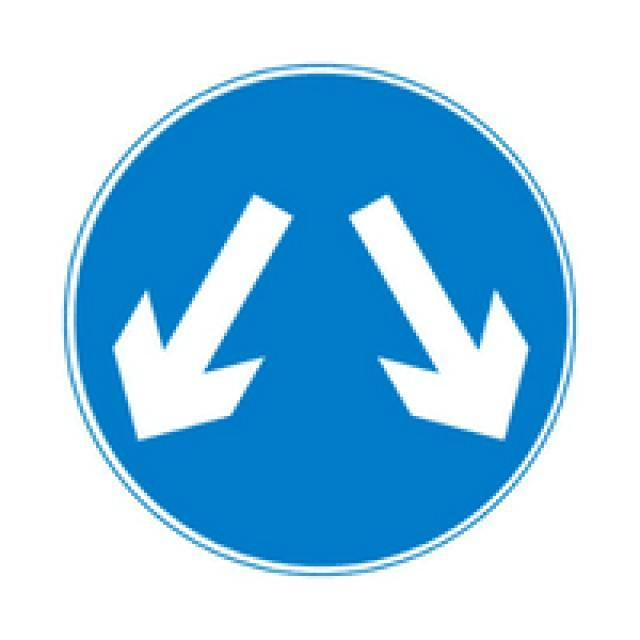pass either side: (62, 64, 580, 576)
